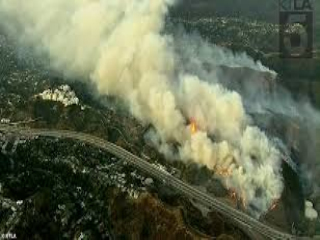fire: (188, 120, 198, 135)
smoke: (108, 32, 290, 207)
